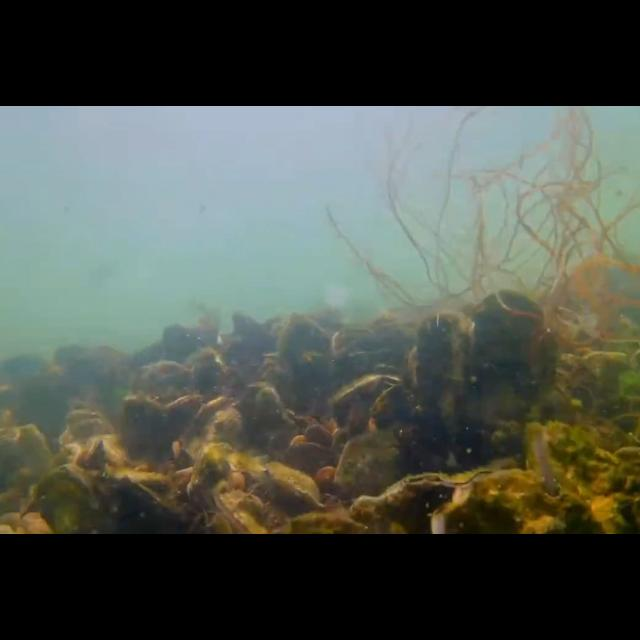Oyster-Closed: (470, 290, 556, 418), (408, 312, 467, 418), (90, 472, 176, 534), (22, 465, 92, 535), (334, 433, 404, 501), (120, 394, 176, 468), (11, 424, 54, 498), (266, 462, 320, 508), (78, 438, 105, 469)
Oyster-Open: (525, 421, 640, 535), (330, 373, 404, 435), (188, 442, 232, 508), (214, 493, 270, 535), (192, 394, 244, 438)
